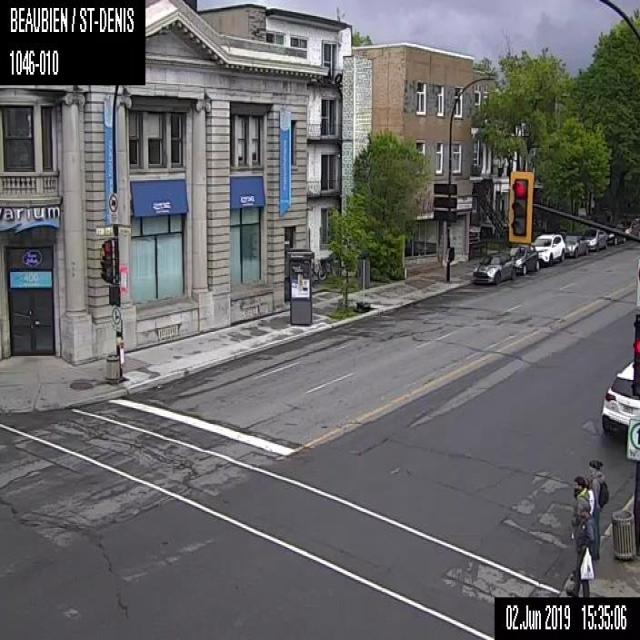pedestrian: (564, 475, 596, 596), (587, 456, 609, 558)
vehicle: (600, 357, 639, 439), (470, 251, 515, 284), (530, 233, 565, 265), (508, 243, 538, 274), (563, 233, 588, 257), (584, 227, 607, 250), (606, 222, 625, 244)
